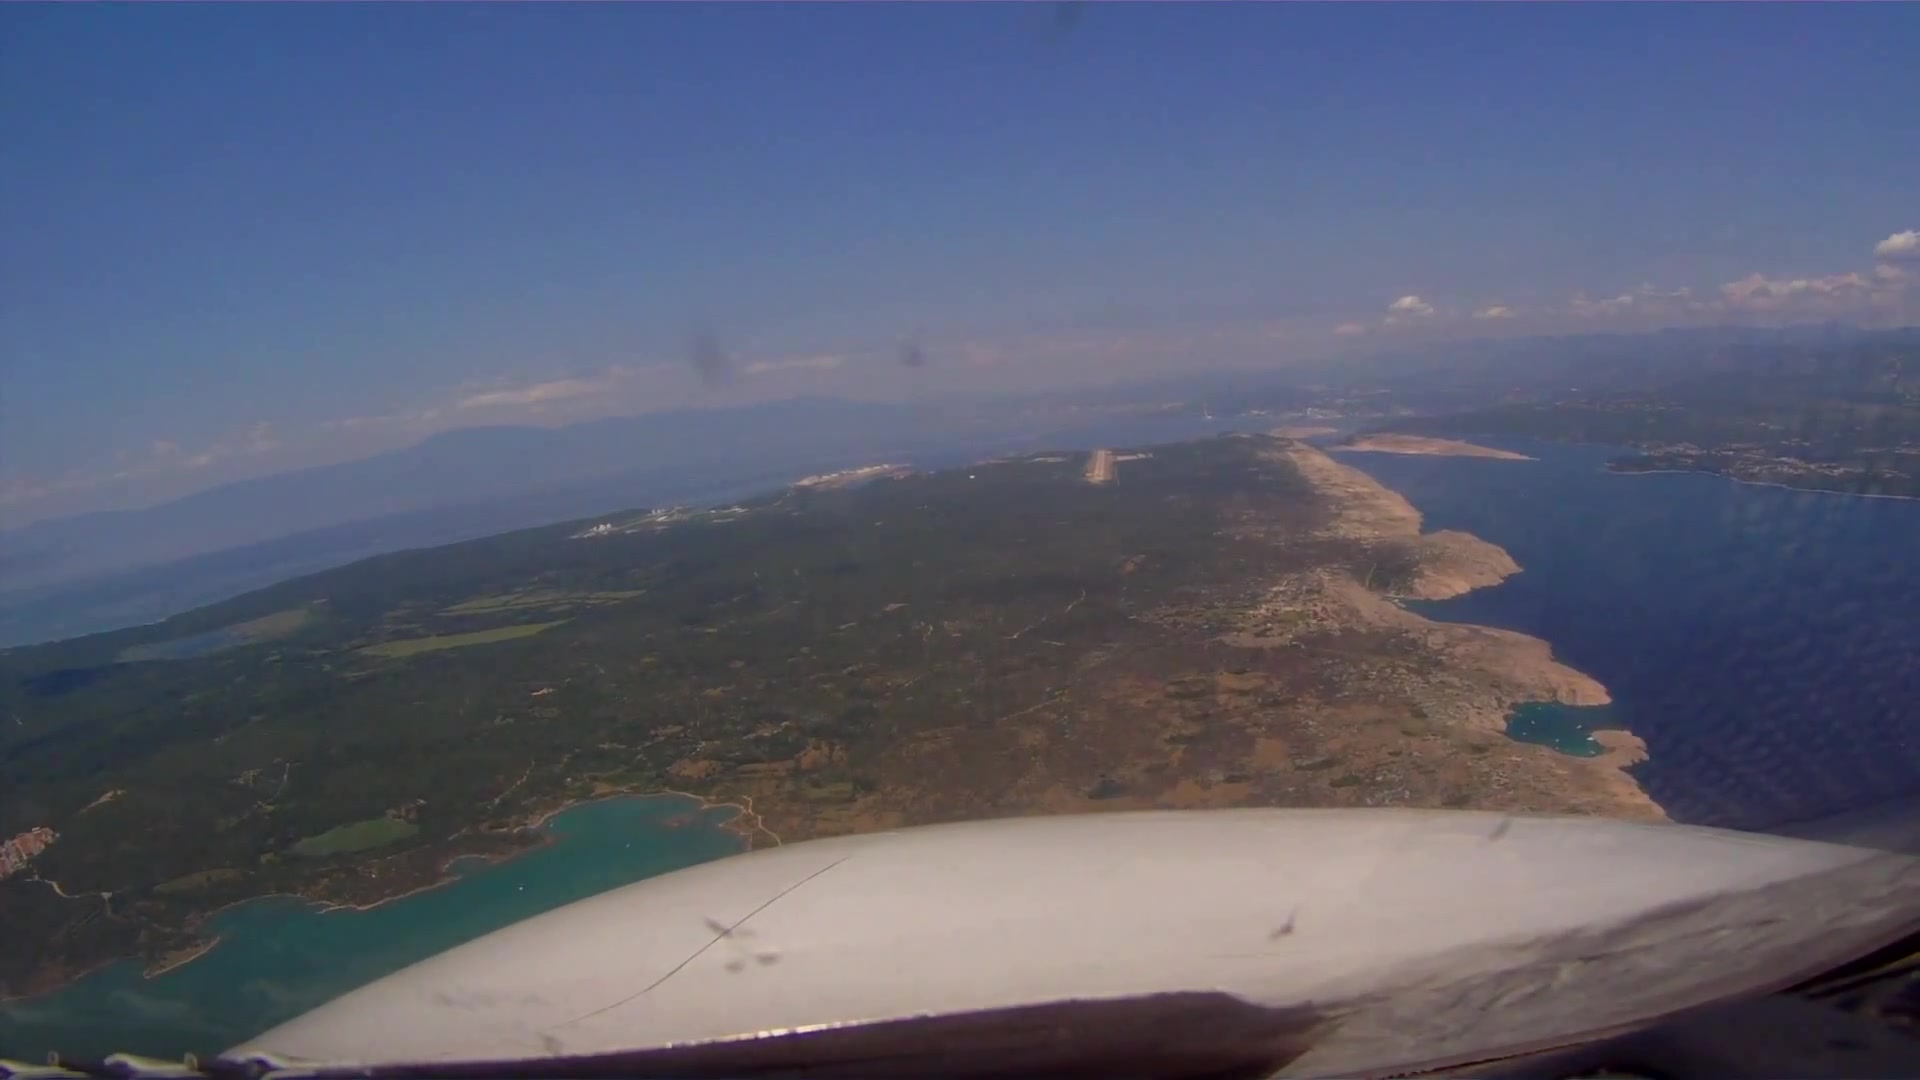runway: (1092, 450, 1106, 480)
